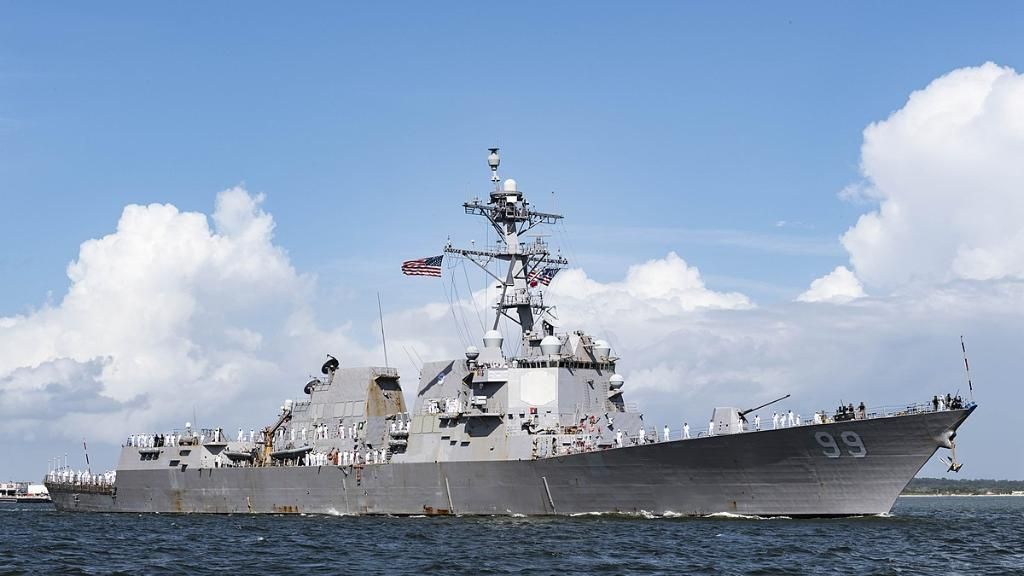Warship: (42, 142, 974, 530)
